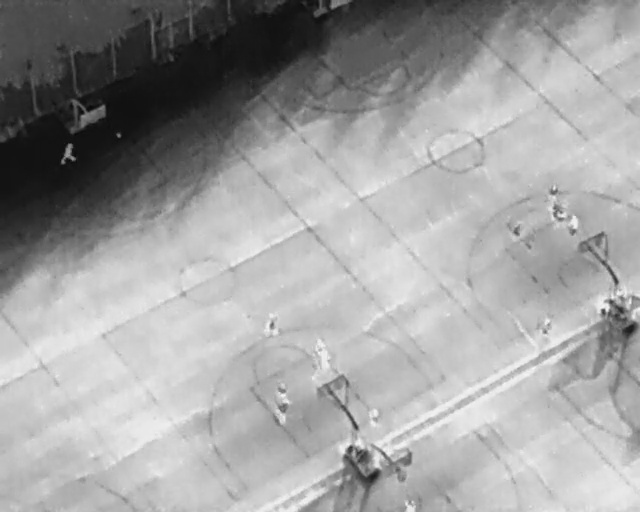Person: (57, 139, 81, 170), (261, 309, 282, 340), (563, 212, 583, 240), (272, 399, 290, 427), (536, 313, 555, 338), (548, 202, 569, 223), (508, 218, 526, 241), (275, 378, 291, 403), (318, 347, 333, 372), (311, 335, 327, 358), (546, 181, 562, 204), (366, 403, 381, 427), (403, 497, 418, 511)
